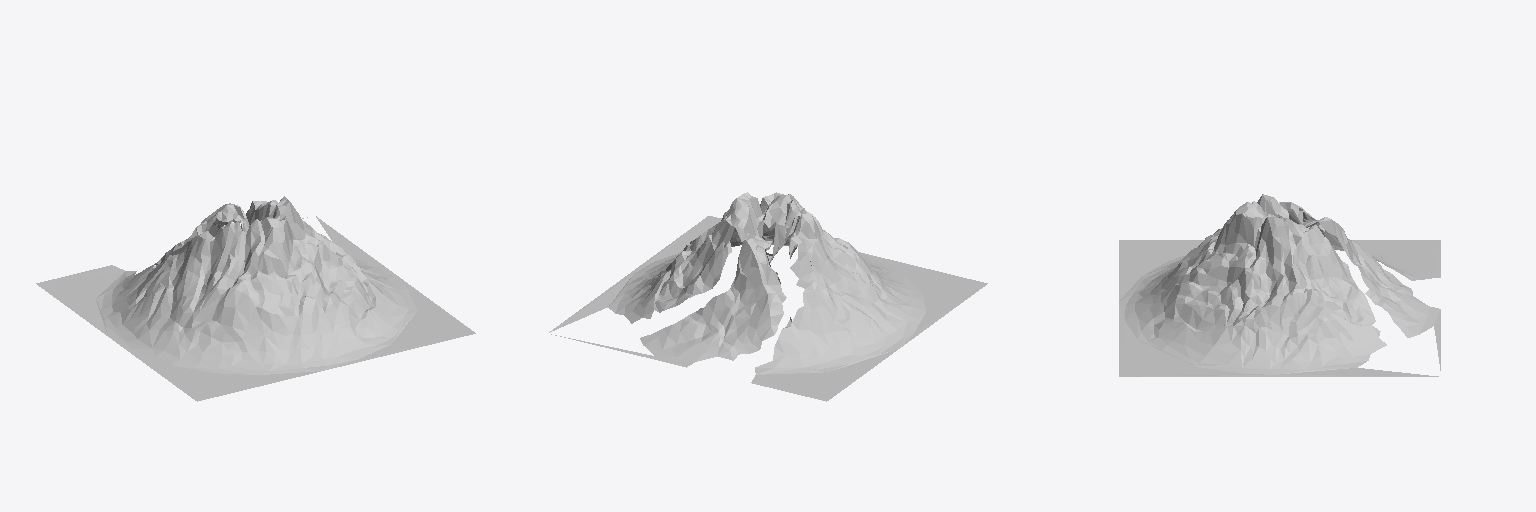
Rendered from volcano_rock_only.obj.
The picture shows the model from 3 angles: view 1: azimuth 30°, elevation 25°; view 2: azimuth 150°, elevation 25°; view 3: azimuth 270°, elevation 25°; orthographic projection.
Parts seen in each view (by area): view 1: Volcano_Landscape; view 2: Volcano_Landscape; view 3: Volcano_Landscape.
Boxes of the visible parts, x1,y1,x2,y2 form: Volcano_Landscape: [36, 196, 475, 401]; Volcano_Landscape: [549, 192, 987, 401]; Volcano_Landscape: [1119, 194, 1440, 376].
Bounding box in the file's own units: 2 × 0.7196 × 2.